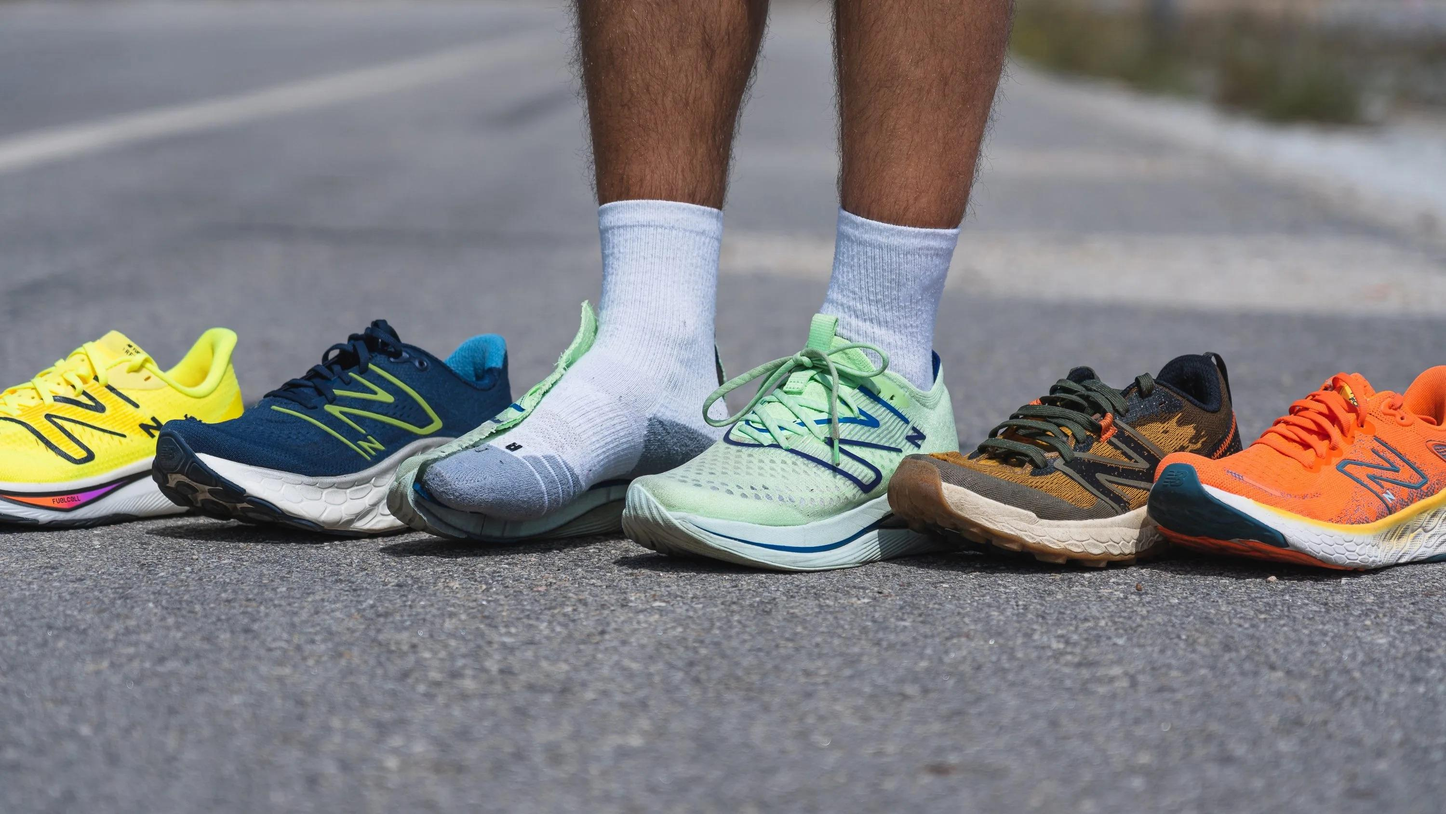NB logo: (260, 351, 453, 469), (782, 379, 929, 499), (2, 364, 158, 474), (1038, 407, 1175, 521), (1322, 421, 1439, 521)
